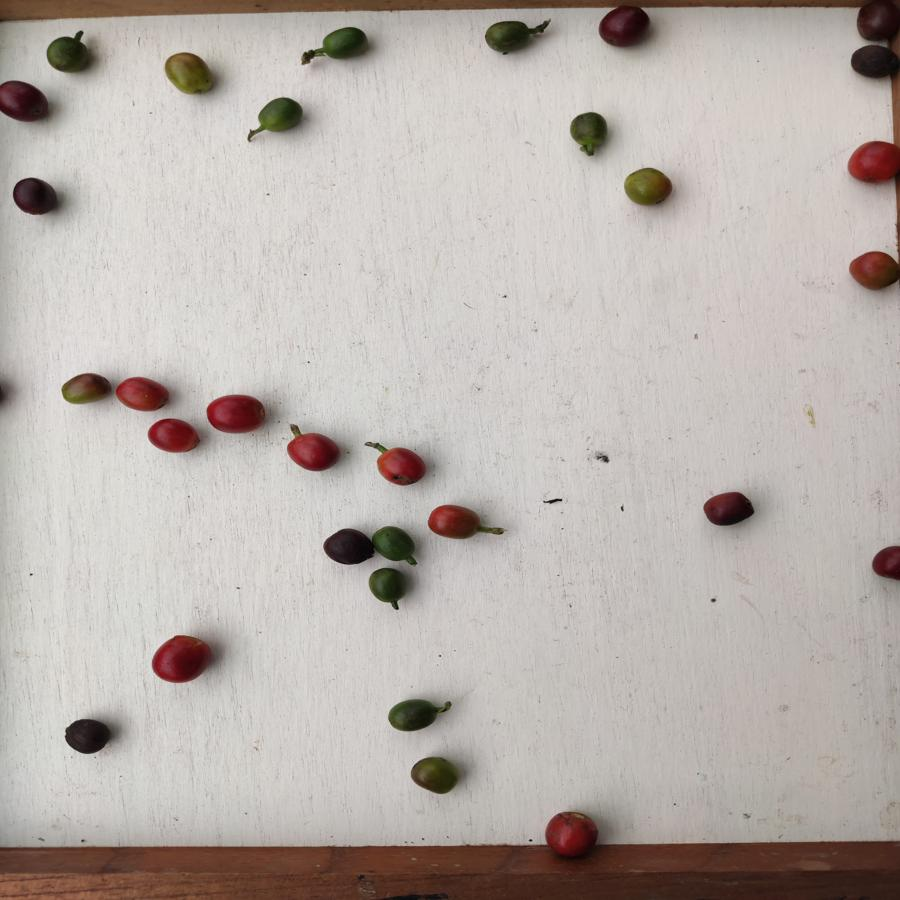Inmaduro: (371, 522, 418, 567), (367, 563, 412, 608), (386, 697, 440, 734), (482, 16, 533, 55), (44, 35, 92, 76), (257, 95, 305, 133), (321, 24, 369, 61), (569, 111, 611, 153)
Maduro: (151, 635, 216, 684), (205, 394, 267, 436), (545, 809, 601, 855), (145, 416, 202, 460), (847, 138, 898, 185), (285, 432, 343, 473), (425, 501, 484, 541), (376, 444, 428, 489), (114, 374, 171, 415), (847, 249, 900, 291)
Pinton: (162, 50, 217, 96), (624, 167, 674, 211), (58, 371, 112, 409), (408, 757, 458, 796)
Sobremaduro: (845, 40, 900, 86), (1, 78, 54, 124), (599, 6, 651, 50), (322, 526, 373, 567), (63, 718, 114, 756), (12, 176, 59, 217), (705, 490, 757, 527), (854, 1, 893, 45)
